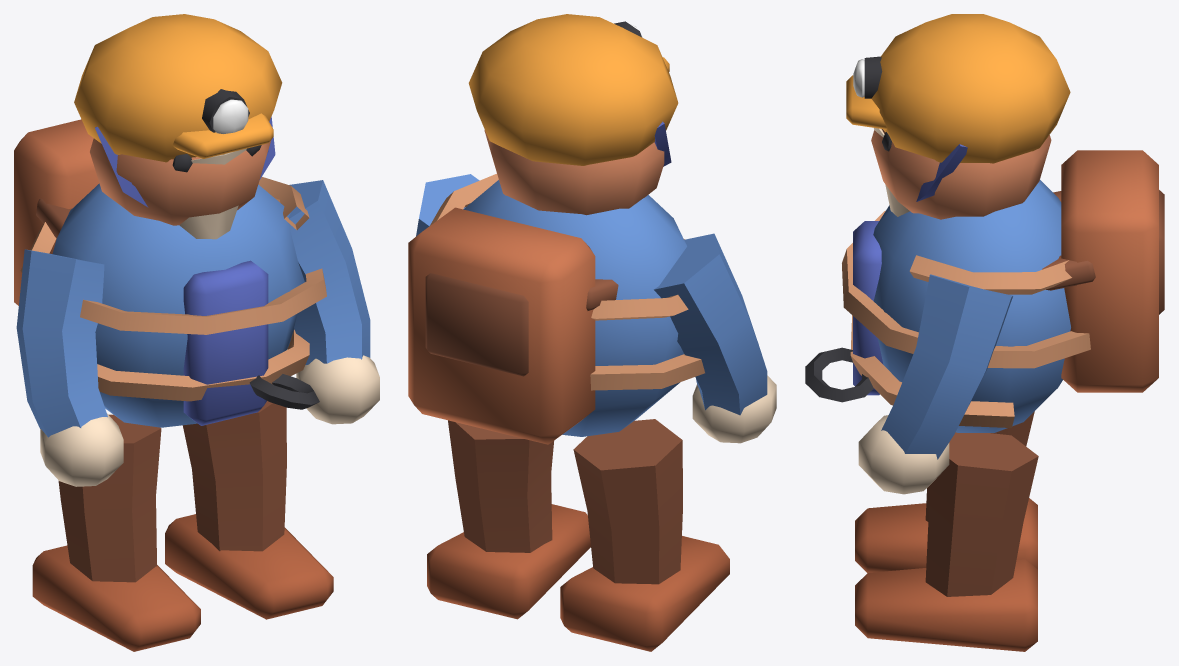
Rendered from mountain_climbers.glb.
The picture shows the model from 3 angles, left to right: view 1: azimuth 30°, elevation 25°; view 2: azimuth 150°, elevation 25°; view 3: azimuth 270°, elevation 25°; orthographic projection.
Visible parts, largest first — view 1: MountainClimbers; view 2: MountainClimbers; view 3: MountainClimbers.
Boxes of the visible parts, x1,y1,x2,y2 form: MountainClimbers: (14, 14, 379, 651); MountainClimbers: (408, 14, 776, 651); MountainClimbers: (805, 14, 1164, 651).
Bounding box in the file's own units: 1.14 × 1.85 × 1.05.
Materials: 1 (1 with a texture image).
